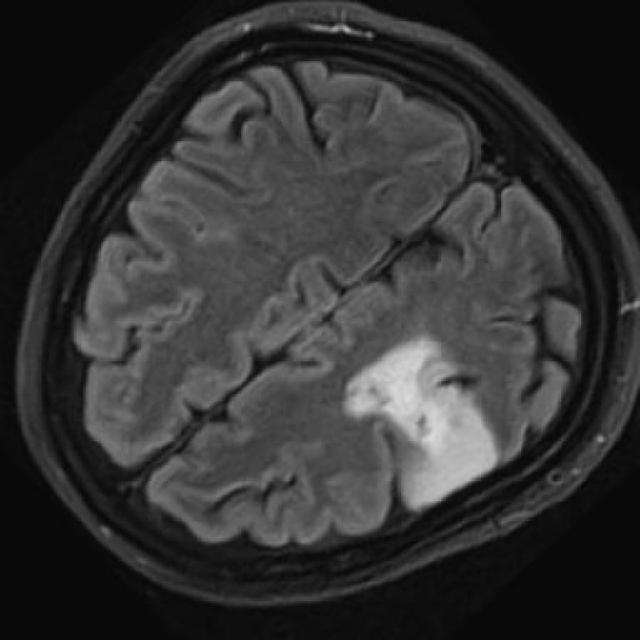Brain-Tumor: (331, 316, 512, 520)
